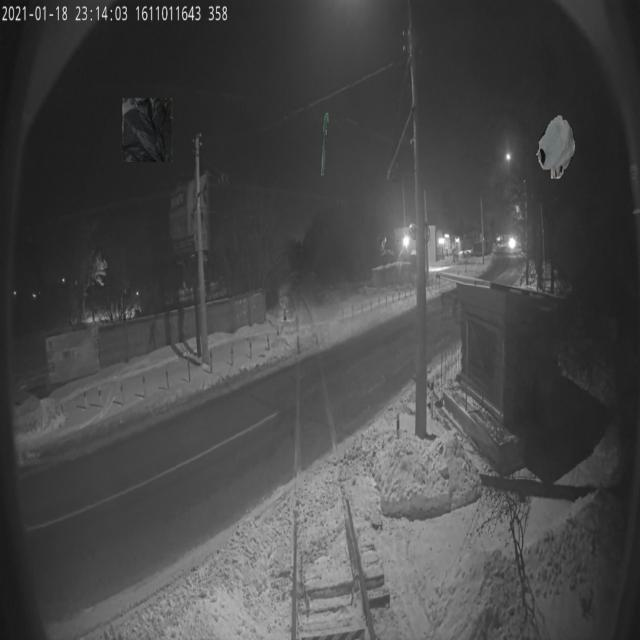floating object: (321, 111, 328, 176)
plastic bag: (122, 98, 173, 162), (536, 114, 576, 178)
